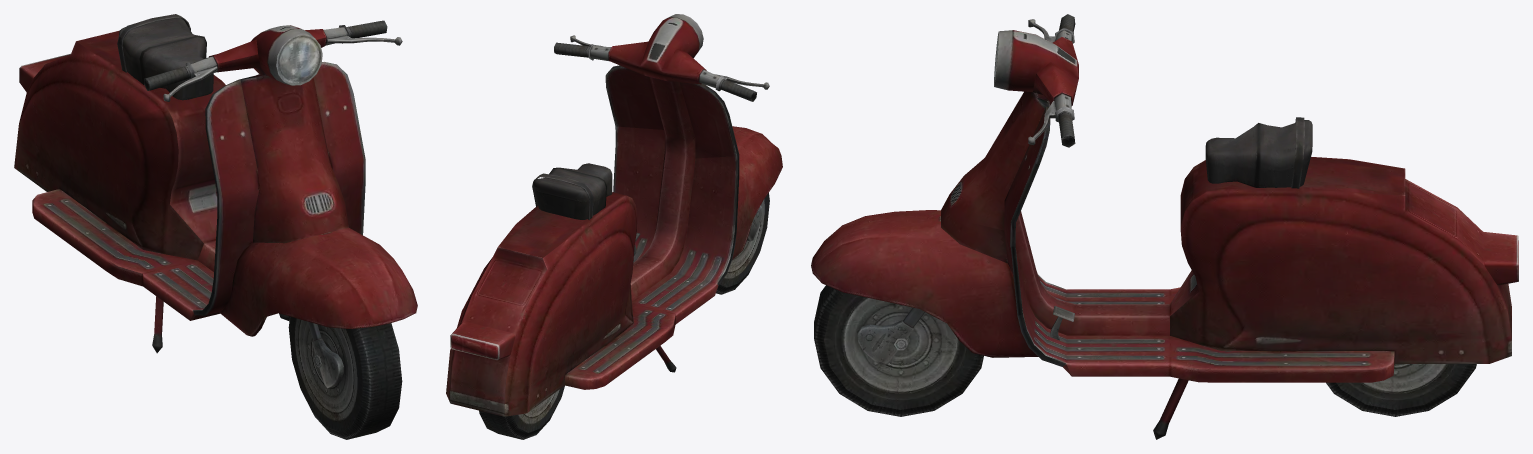
The model's file is vespa.glb.
3 views of the same model, side by side, from view 1: azimuth 30°, elevation 25°; view 2: azimuth 150°, elevation 25°; view 3: azimuth 270°, elevation 25° (orthographic). The views are drawn at different scales.
Visible parts, largest first — view 1: Scooter Vespa_Scooter Vespa_0, vespa_front_0, vespa_steer_0; view 2: Scooter Vespa_Scooter Vespa_0, vespa_rear_0, vespa_front_0; view 3: Scooter Vespa_Scooter Vespa_0, vespa_front_0, vespa_rear_0, vespa_steer_0.
Boxes of the visible parts, x1,y1,x2,y2 form: Scooter Vespa_Scooter Vespa_0: [14, 14, 417, 353]; vespa_front_0: [288, 316, 402, 439]; vespa_steer_0: [307, 321, 343, 388]; Scooter Vespa_Scooter Vespa_0: [446, 14, 782, 416]; vespa_rear_0: [479, 386, 564, 439]; vespa_front_0: [716, 193, 769, 294]; Scooter Vespa_Scooter Vespa_0: [811, 14, 1518, 439]; vespa_front_0: [814, 285, 983, 416]; vespa_rear_0: [1326, 364, 1476, 416]; vespa_steer_0: [857, 307, 924, 365].
Bounding box in the file's own units: 0.7502 × 1.09 × 1.86.
Materials: 1 (1 with a texture image).
